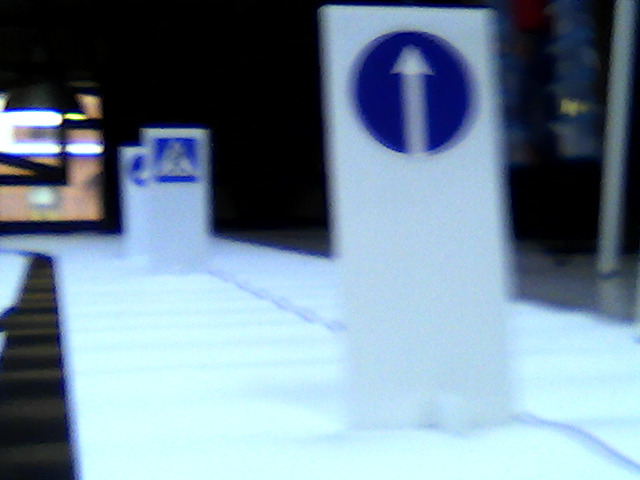forw: (342, 22, 475, 168)
pesh: (153, 135, 199, 184)
